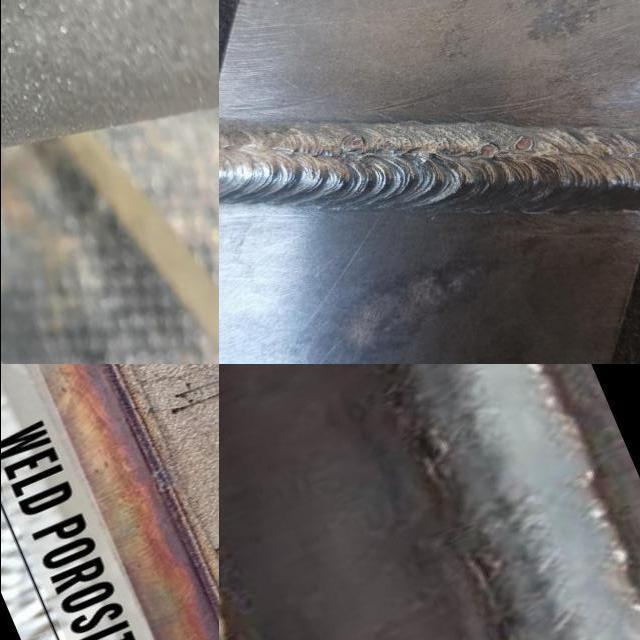defect: (509, 132, 537, 154), (474, 139, 499, 160), (340, 132, 363, 151), (376, 136, 400, 153), (430, 135, 450, 150)
